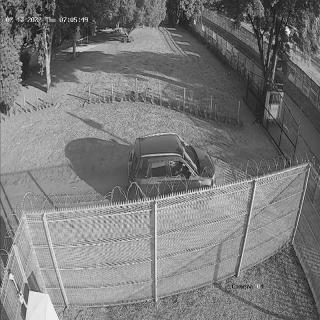car: (127, 132, 216, 199)
